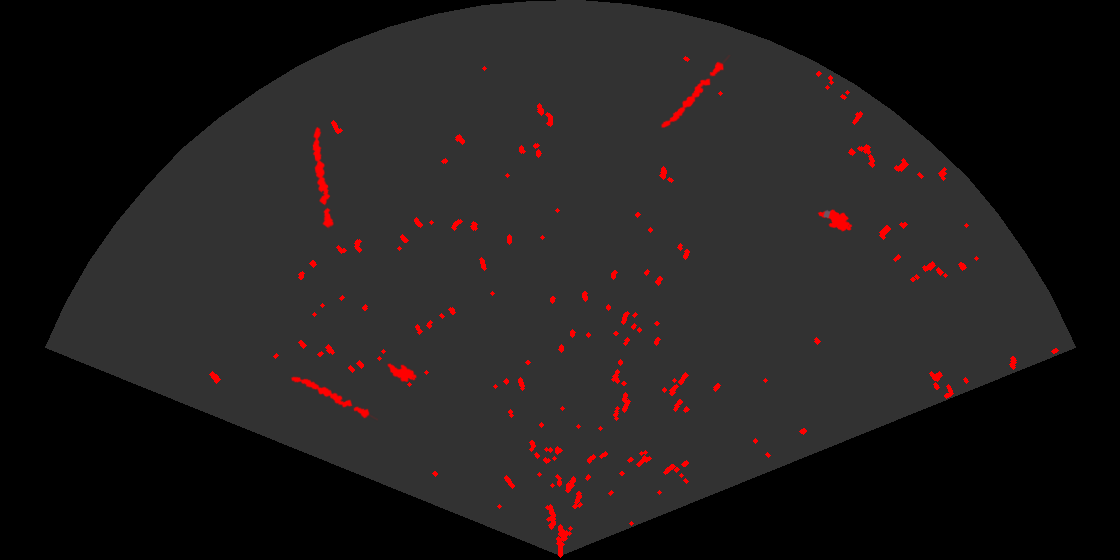AUV: (816, 208, 854, 233), (386, 362, 418, 384)
chain: (659, 55, 732, 130), (289, 375, 378, 422), (311, 125, 335, 231)
